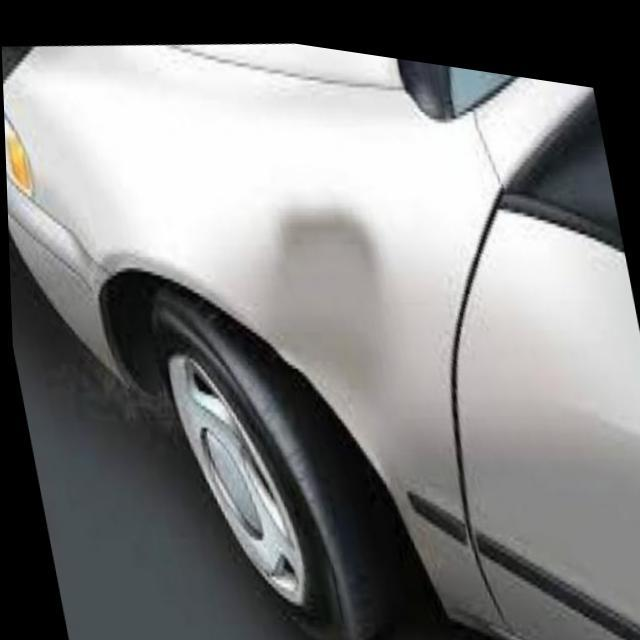crack: (26, 175, 102, 300)
dent: (268, 195, 395, 390)
